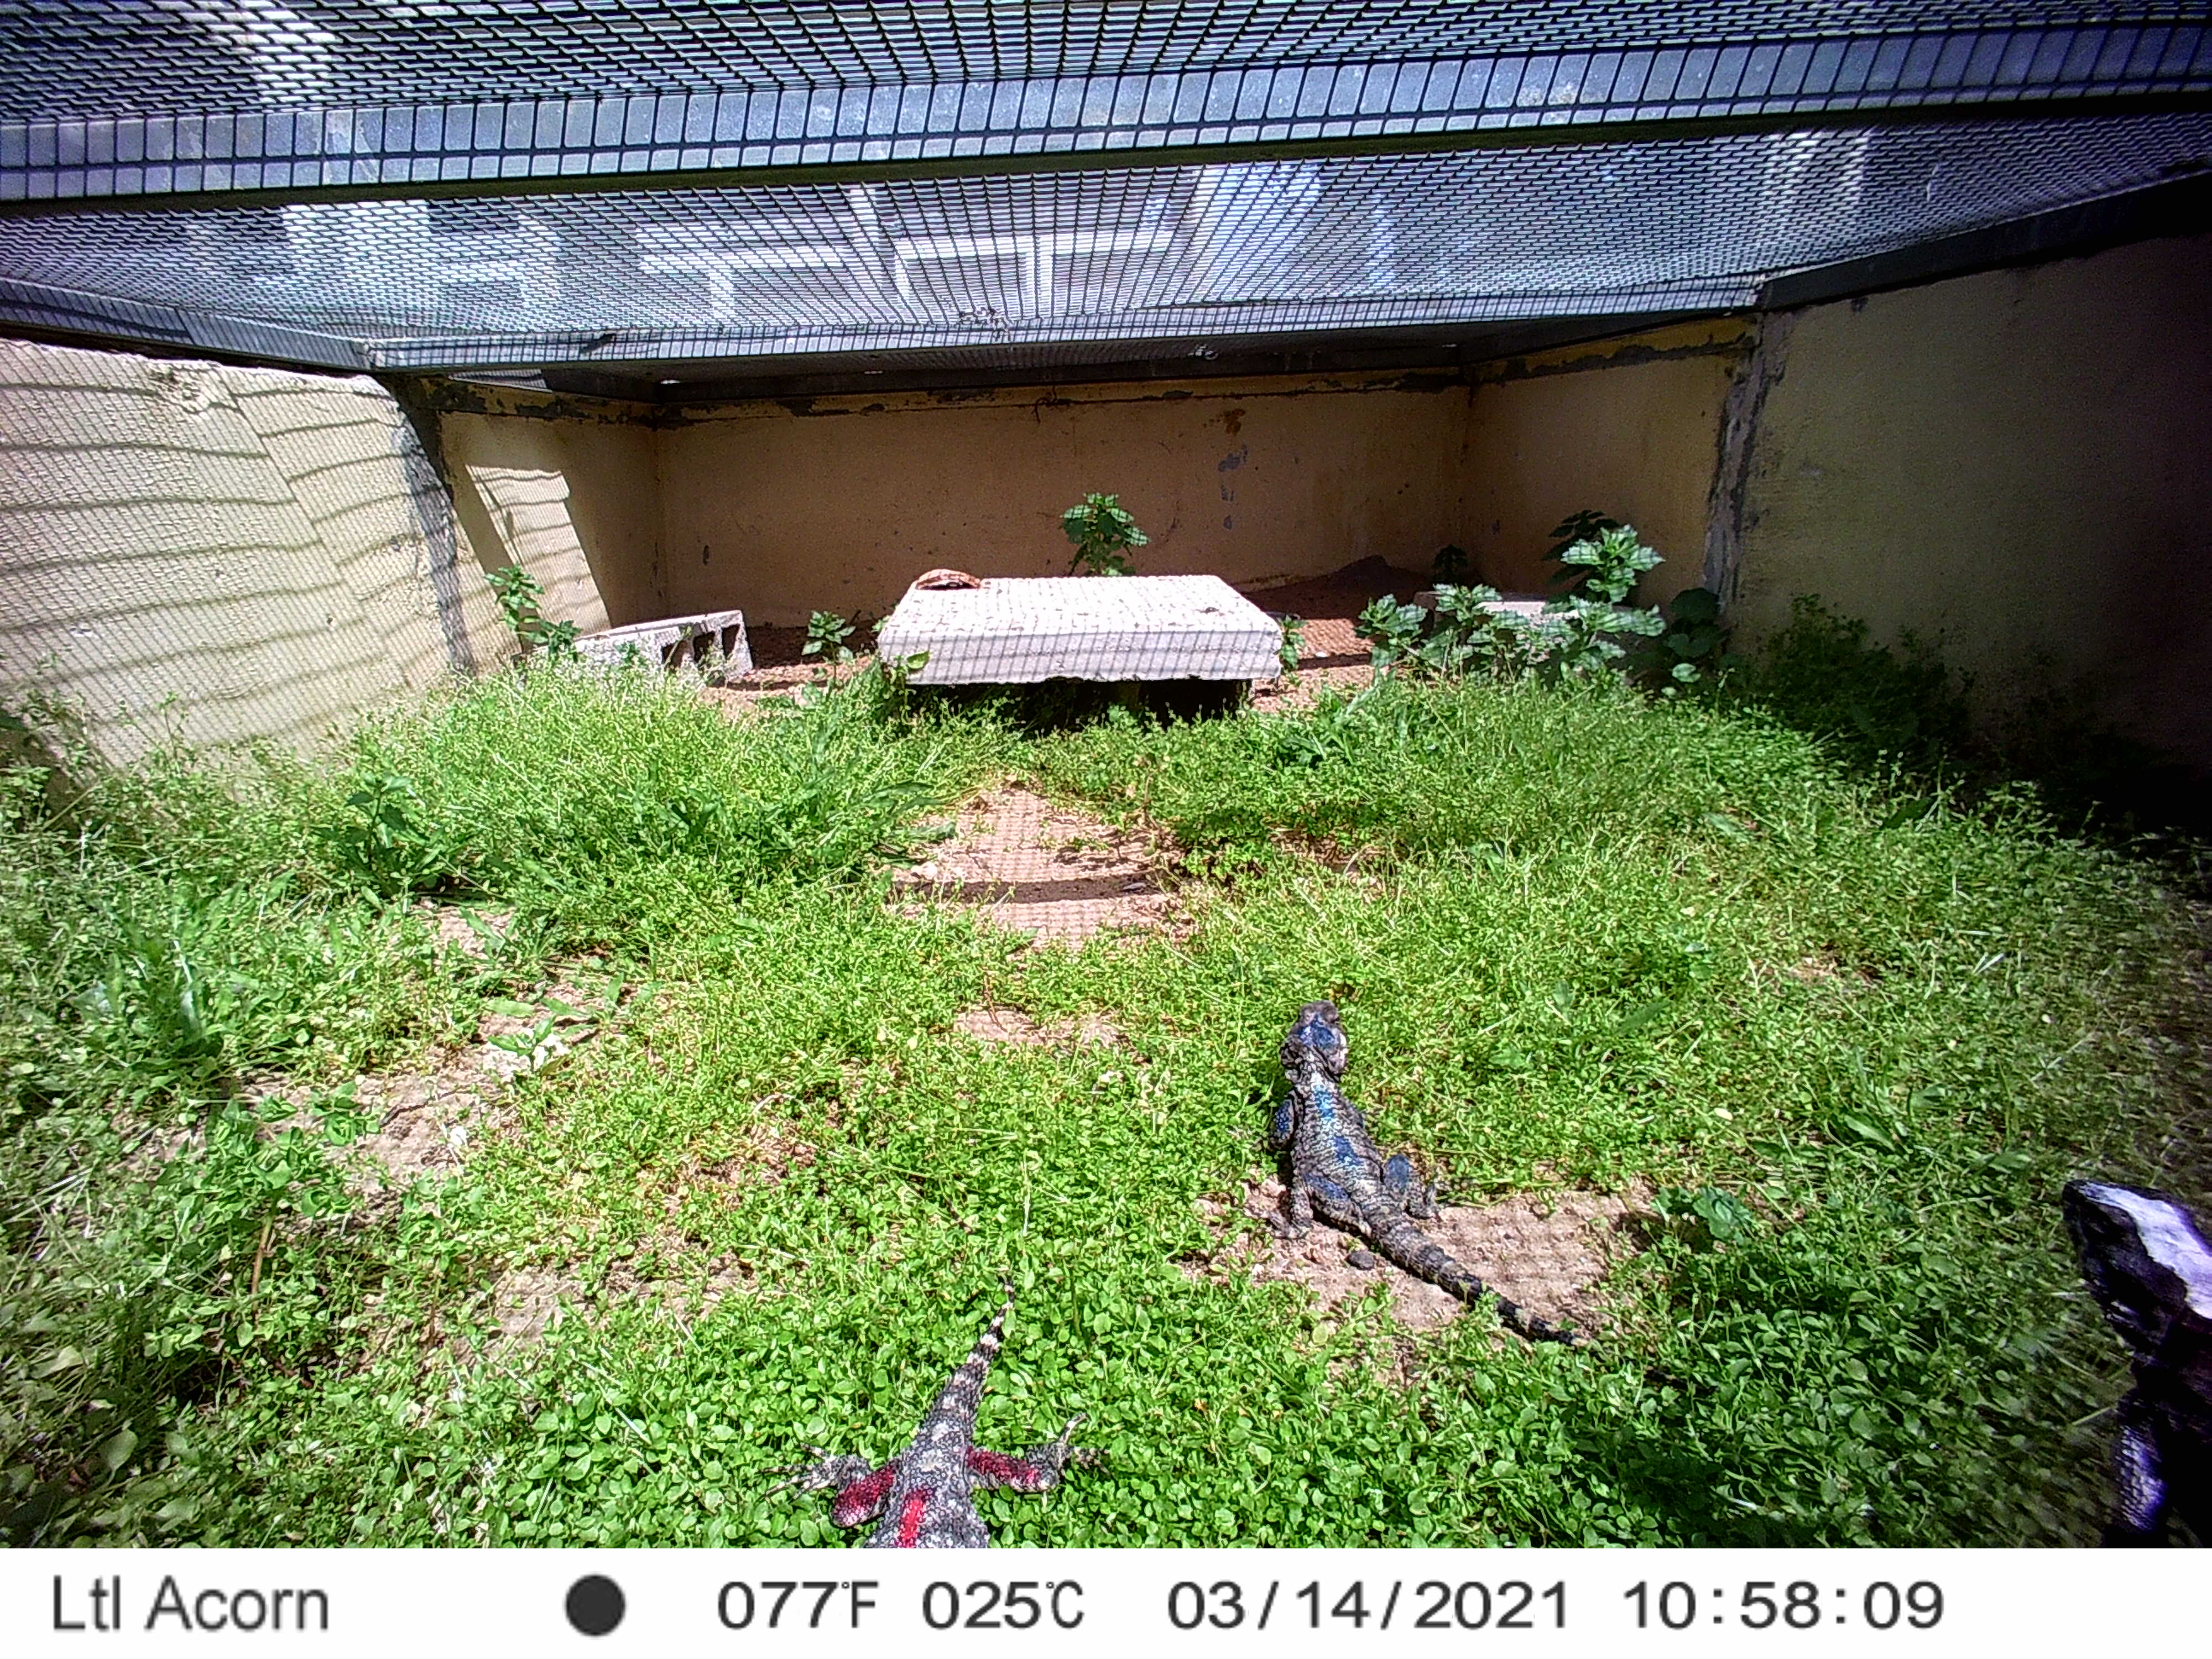lizard: (1266, 999, 1615, 1359), (765, 1262, 1090, 1547), (2059, 1169, 2212, 1546)
